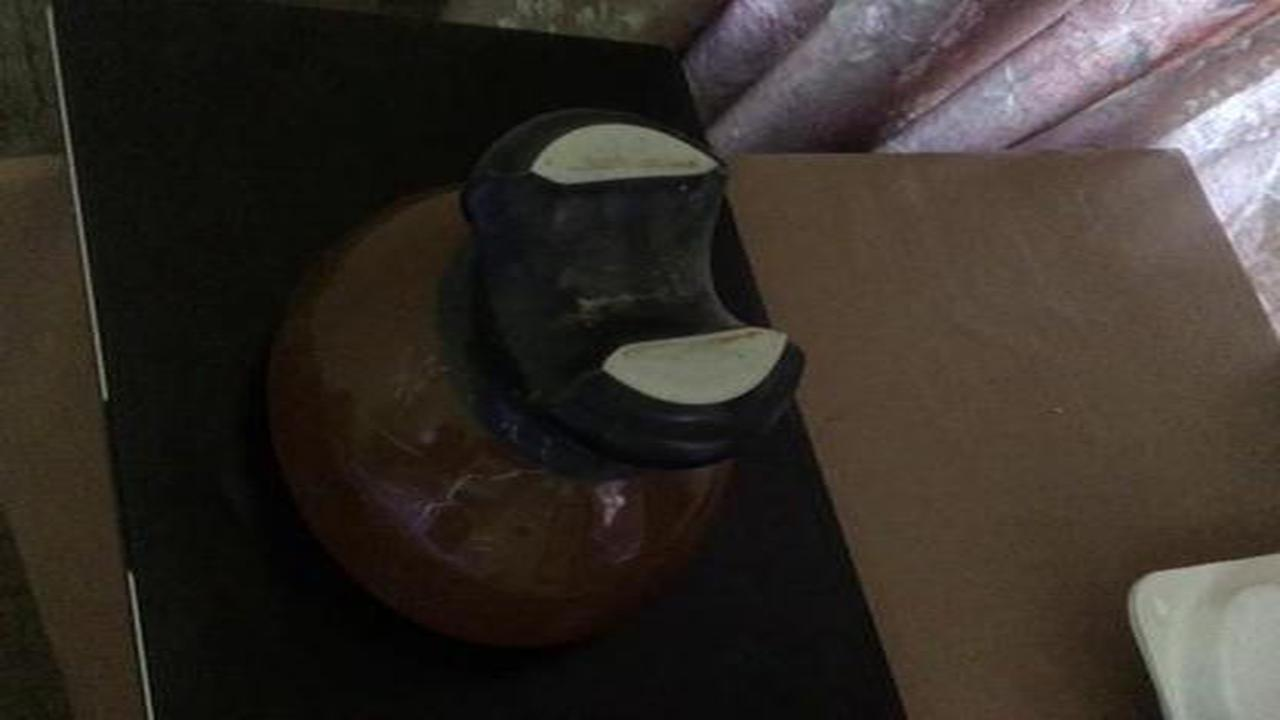insulator_pin: (244, 94, 828, 667)
